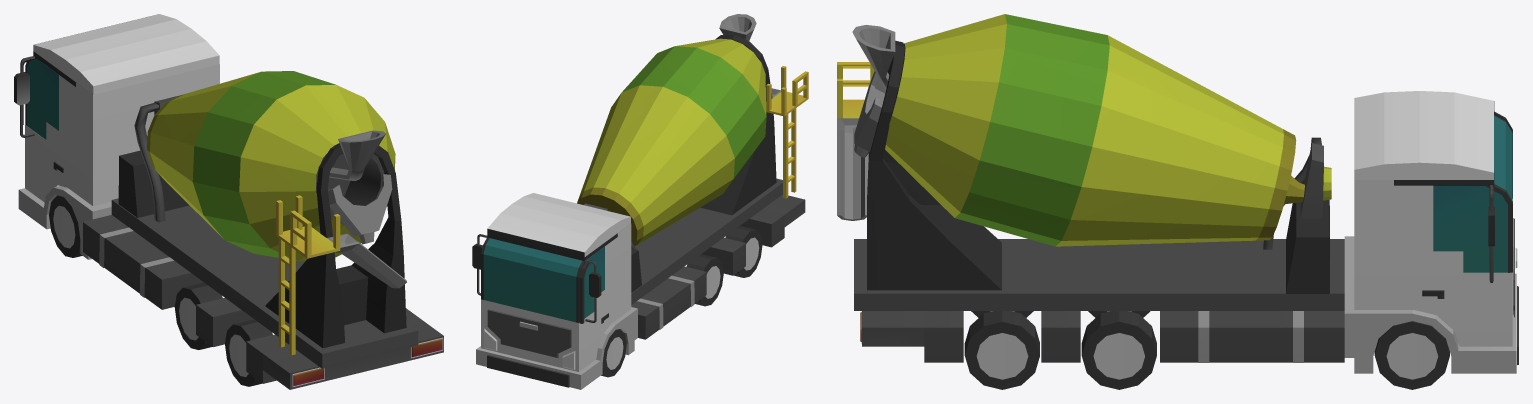
Rendered from mixer.glb.
The picture shows the model from 3 angles, left to right: view 1: azimuth 30°, elevation 25°; view 2: azimuth 150°, elevation 25°; view 3: azimuth 270°, elevation 25°; orthographic projection. The views are drawn at different scales.
Parts seen in each view (by area): view 1: concrete_mixer_truck; view 2: concrete_mixer_truck; view 3: concrete_mixer_truck.
Boxes of the visible parts, bbox=[...] form: concrete_mixer_truck: bbox=[14, 14, 443, 389]; concrete_mixer_truck: bbox=[472, 14, 808, 389]; concrete_mixer_truck: bbox=[837, 14, 1518, 389].
Bounding box in the file's own units: 0.9111 × 1.49 × 2.81.
1 material, 1 textured.
